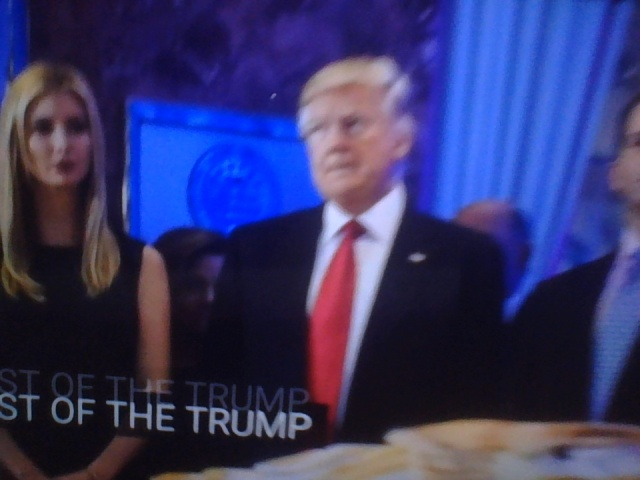fake: (288, 16, 424, 209)
